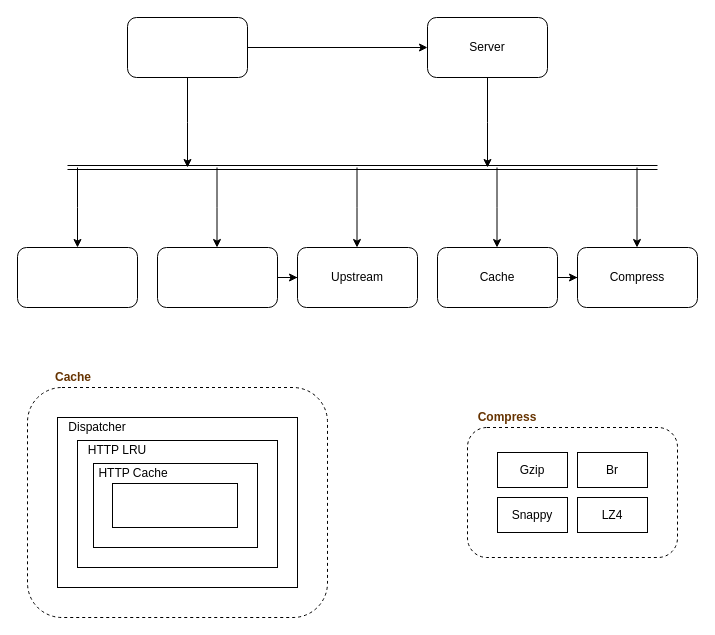
The diagram is 715 pixels wide and 635 high, and some of its shapes have lost their labels. Here are the shapes that lost their labels. From the top down, the box of each, then its label:
(126, 16, 248, 78): Main
(16, 246, 138, 308): Config
(156, 246, 278, 308): Location
(112, 482, 238, 528): HTTP Response
